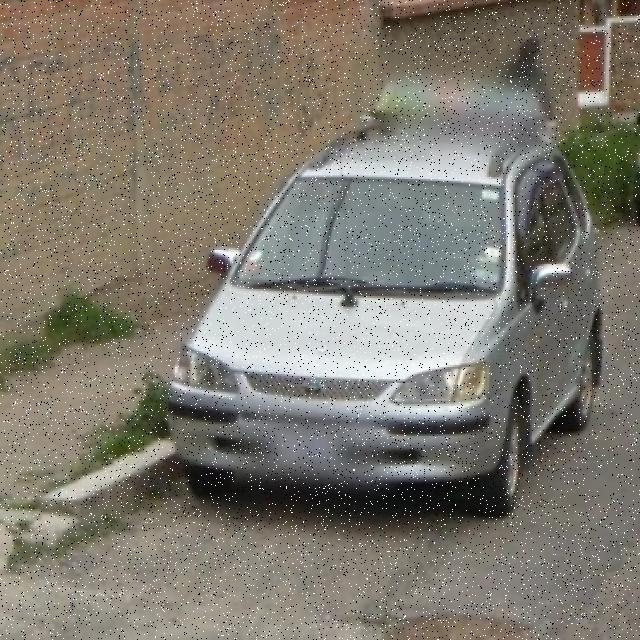cars: (172, 102, 610, 506)
